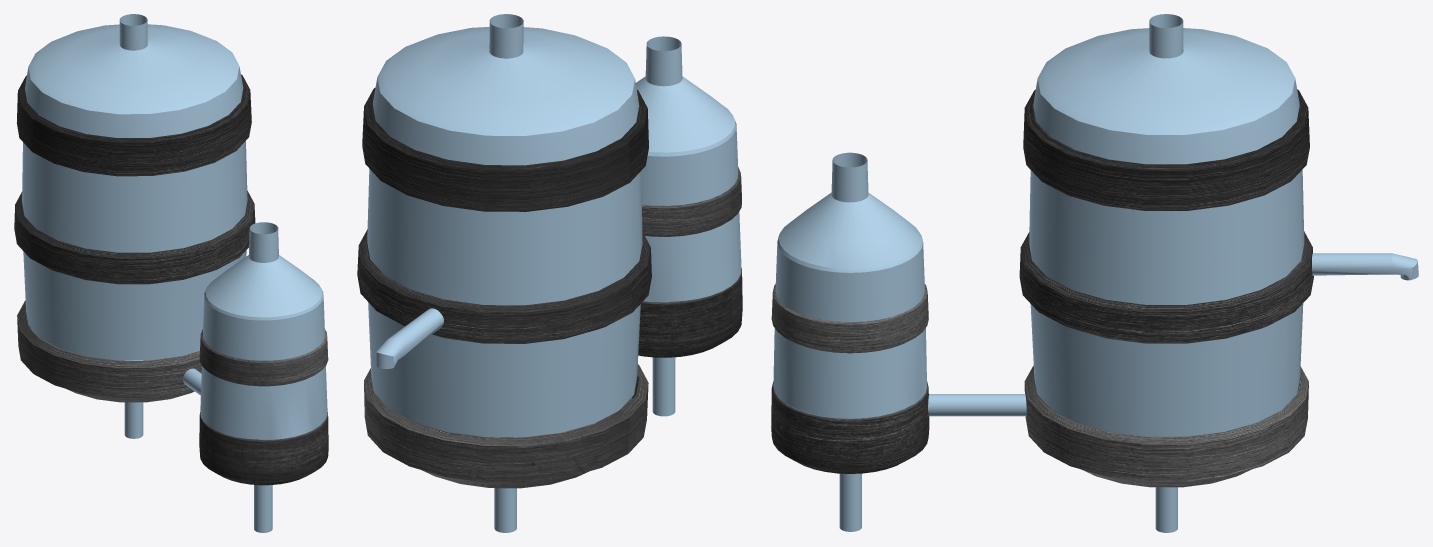
Rendered from bidonstexturi.fbx.
The picture shows the model from 3 angles, left to right: view 1: azimuth 30°, elevation 25°; view 2: azimuth 150°, elevation 25°; view 3: azimuth 270°, elevation 25°; orthographic projection. The views are drawn at different scales.
Parts seen in each view (by area): view 1: glass part, sph. glass, top ring, middle ring, base, sph. base, sph. ring, truba.001, truba.002; view 2: glass part, sph. glass, base, top ring, middle ring, sph. base, sph. ring, truba.003, truba.001, truba.002; view 3: glass part, sph. glass, top ring, base, middle ring, sph. base, sph. ring, truba.003, truba, truba.001, truba.002.
Boxes of the visible parts, x1=… form: glass part: x1=22, y1=14, x2=247, y2=360; sph. glass: x1=200, y1=222, x2=327, y2=439; top ring: x1=17, y1=74, x2=251, y2=176; middle ring: x1=14, y1=190, x2=255, y2=284; base: x1=17, y1=300, x2=201, y2=402; sph. base: x1=199, y1=412, x2=328, y2=485; sph. ring: x1=199, y1=329, x2=328, y2=386; truba.001: x1=254, y1=485, x2=272, y2=532; truba.002: x1=124, y1=360, x2=143, y2=438; glass part: x1=367, y1=14, x2=642, y2=437; sph. glass: x1=636, y1=36, x2=741, y2=302; base: x1=364, y1=364, x2=648, y2=488; top ring: x1=362, y1=88, x2=648, y2=211; middle ring: x1=357, y1=229, x2=651, y2=343; sph. base: x1=638, y1=268, x2=742, y2=357; sph. ring: x1=642, y1=167, x2=741, y2=236; truba.003: x1=375, y1=308, x2=443, y2=368; truba.001: x1=652, y1=357, x2=675, y2=416; truba.002: x1=494, y1=437, x2=516, y2=532; glass part: x1=1029, y1=14, x2=1304, y2=436; sph. glass: x1=773, y1=152, x2=927, y2=418; top ring: x1=1023, y1=89, x2=1309, y2=210; base: x1=1024, y1=365, x2=1308, y2=487; middle ring: x1=1019, y1=231, x2=1313, y2=343; sph. base: x1=771, y1=381, x2=929, y2=473; sph. ring: x1=771, y1=284, x2=928, y2=353; truba.003: x1=1312, y1=253, x2=1418, y2=280; truba: x1=928, y1=394, x2=1026, y2=416; truba.001: x1=839, y1=473, x2=861, y2=531; truba.002: x1=1155, y1=487, x2=1177, y2=532.
Bounding box in the file's own units: 783 × 1491 × 1727.
Materials: 2 (1 with a texture image).
